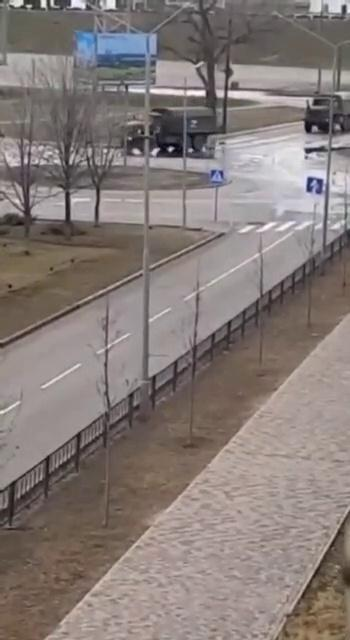truck: (120, 106, 218, 153), (304, 91, 350, 132)
